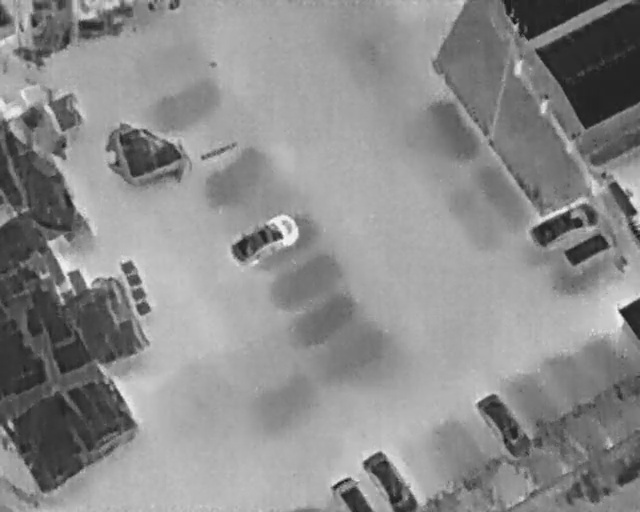Car: (224, 207, 305, 273), (473, 386, 535, 464), (528, 196, 603, 253), (365, 451, 417, 512), (330, 475, 371, 512)
